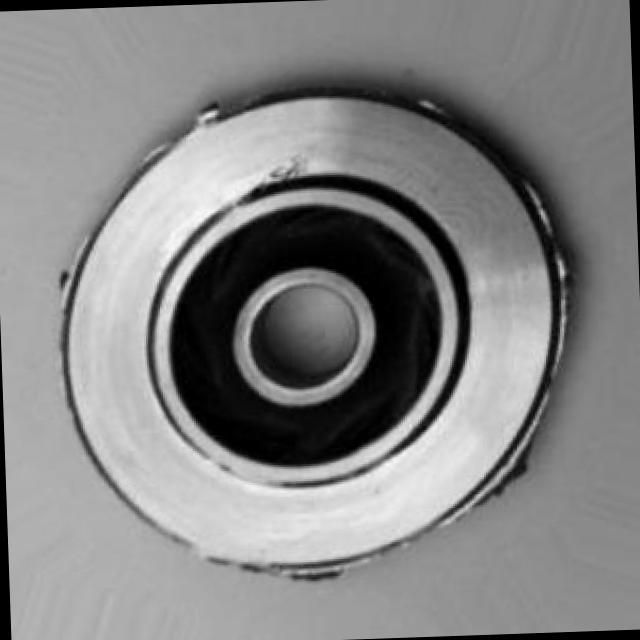Defect: (252, 148, 314, 190)
